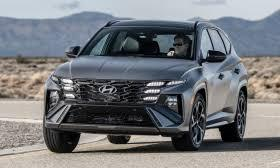hyundai: (96, 81, 120, 96)
